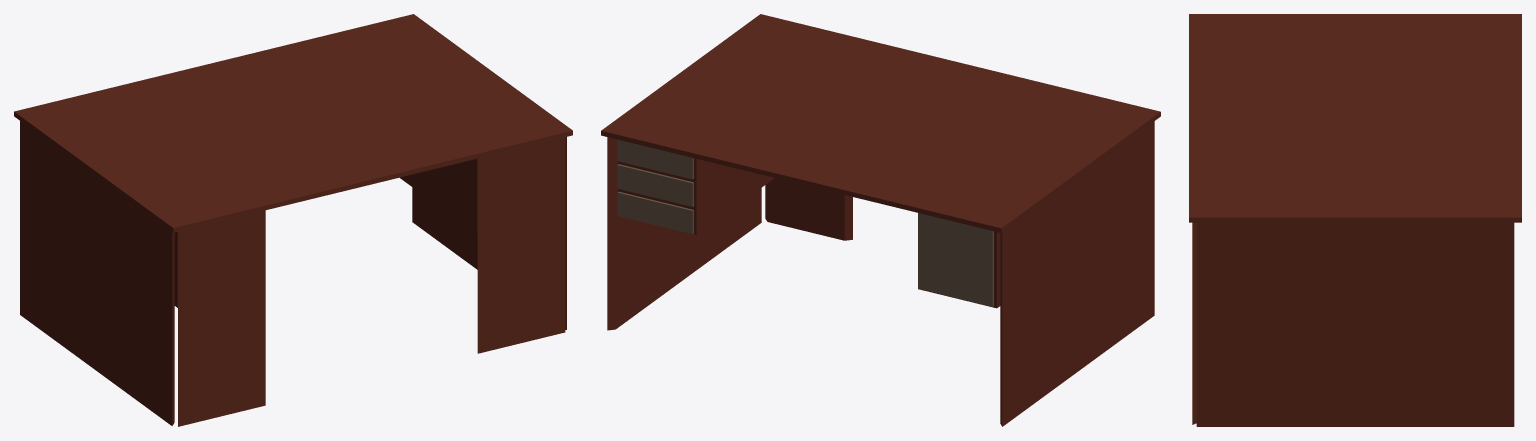
Rendered from Desk.fbx.
3 renders of one model, left to right at view 1: azimuth 30°, elevation 25°; view 2: azimuth 150°, elevation 25°; view 3: azimuth 270°, elevation 25°, orthographic. The views are drawn at different scales.
Visible parts, largest first — view 1: Desk; view 2: Desk; view 3: Desk.
Part boxes in pixels (<box>): Desk: <box>14,14,572,426</box>; Desk: <box>601,14,1160,426</box>; Desk: <box>1189,14,1521,426</box>.
Size of the model in its own units: 174 by 83.78 by 120.
